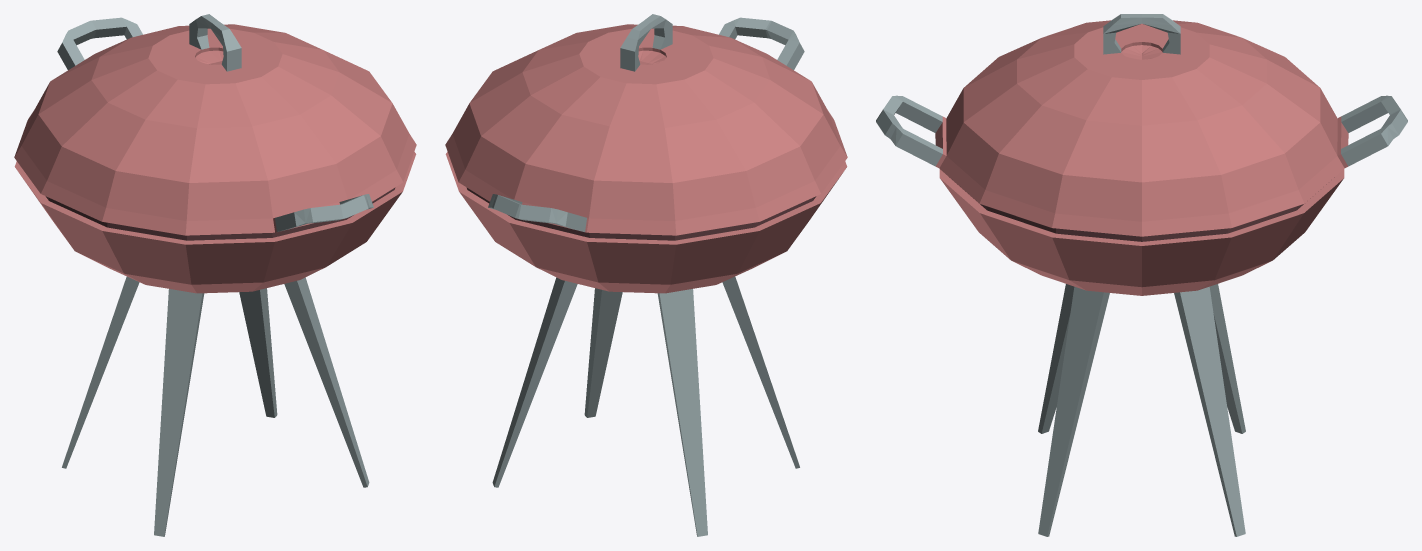
File: Crashers_BBQ_Pit.fbx
The picture shows the model from 3 angles, left to right: view 1: azimuth 30°, elevation 25°; view 2: azimuth 150°, elevation 25°; view 3: azimuth 270°, elevation 25°; orthographic projection. The views are drawn at different scales.
Parts seen in each view (by area): view 1: pSphere1; view 2: pSphere1; view 3: pSphere1.
Part boxes in pixels (x1,y1,x2,y2): pSphere1: (14,14,416,536); pSphere1: (445,14,847,536); pSphere1: (876,14,1407,536).
Bounding box in the file's own units: 3 × 3.72 × 3.83.
